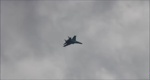maybay_muctieu: (63, 35, 82, 48)
